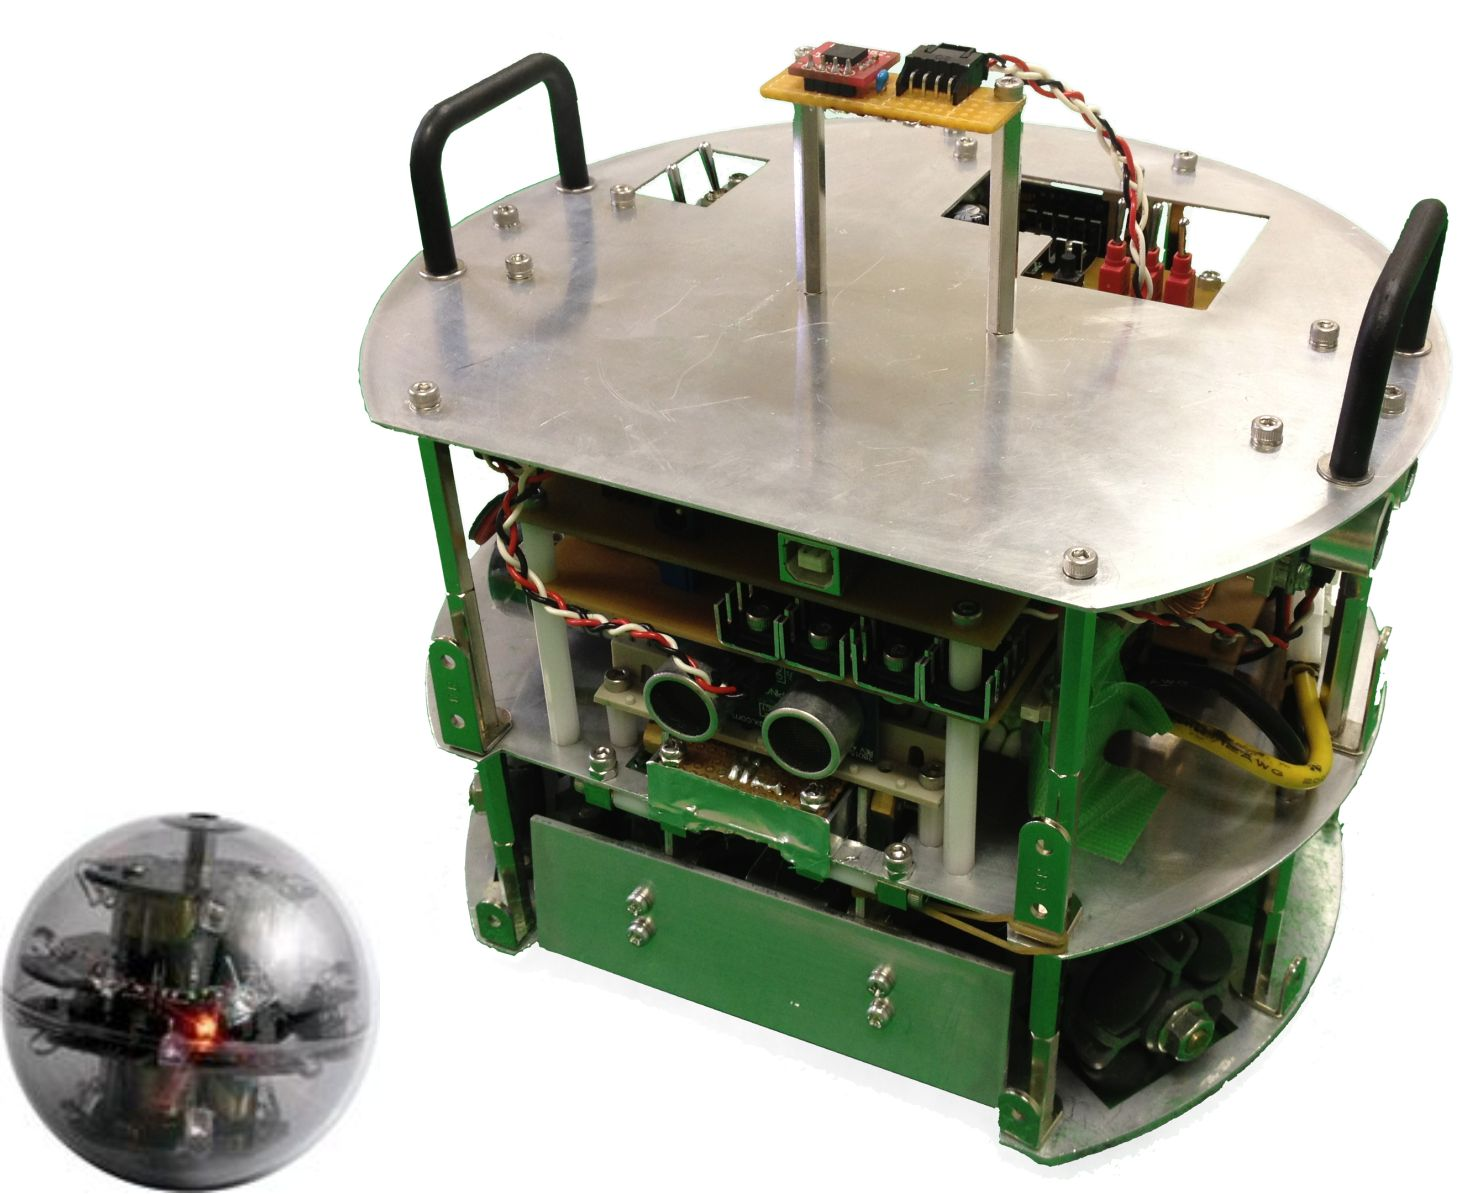Robot: (346, 9, 1453, 1168)
